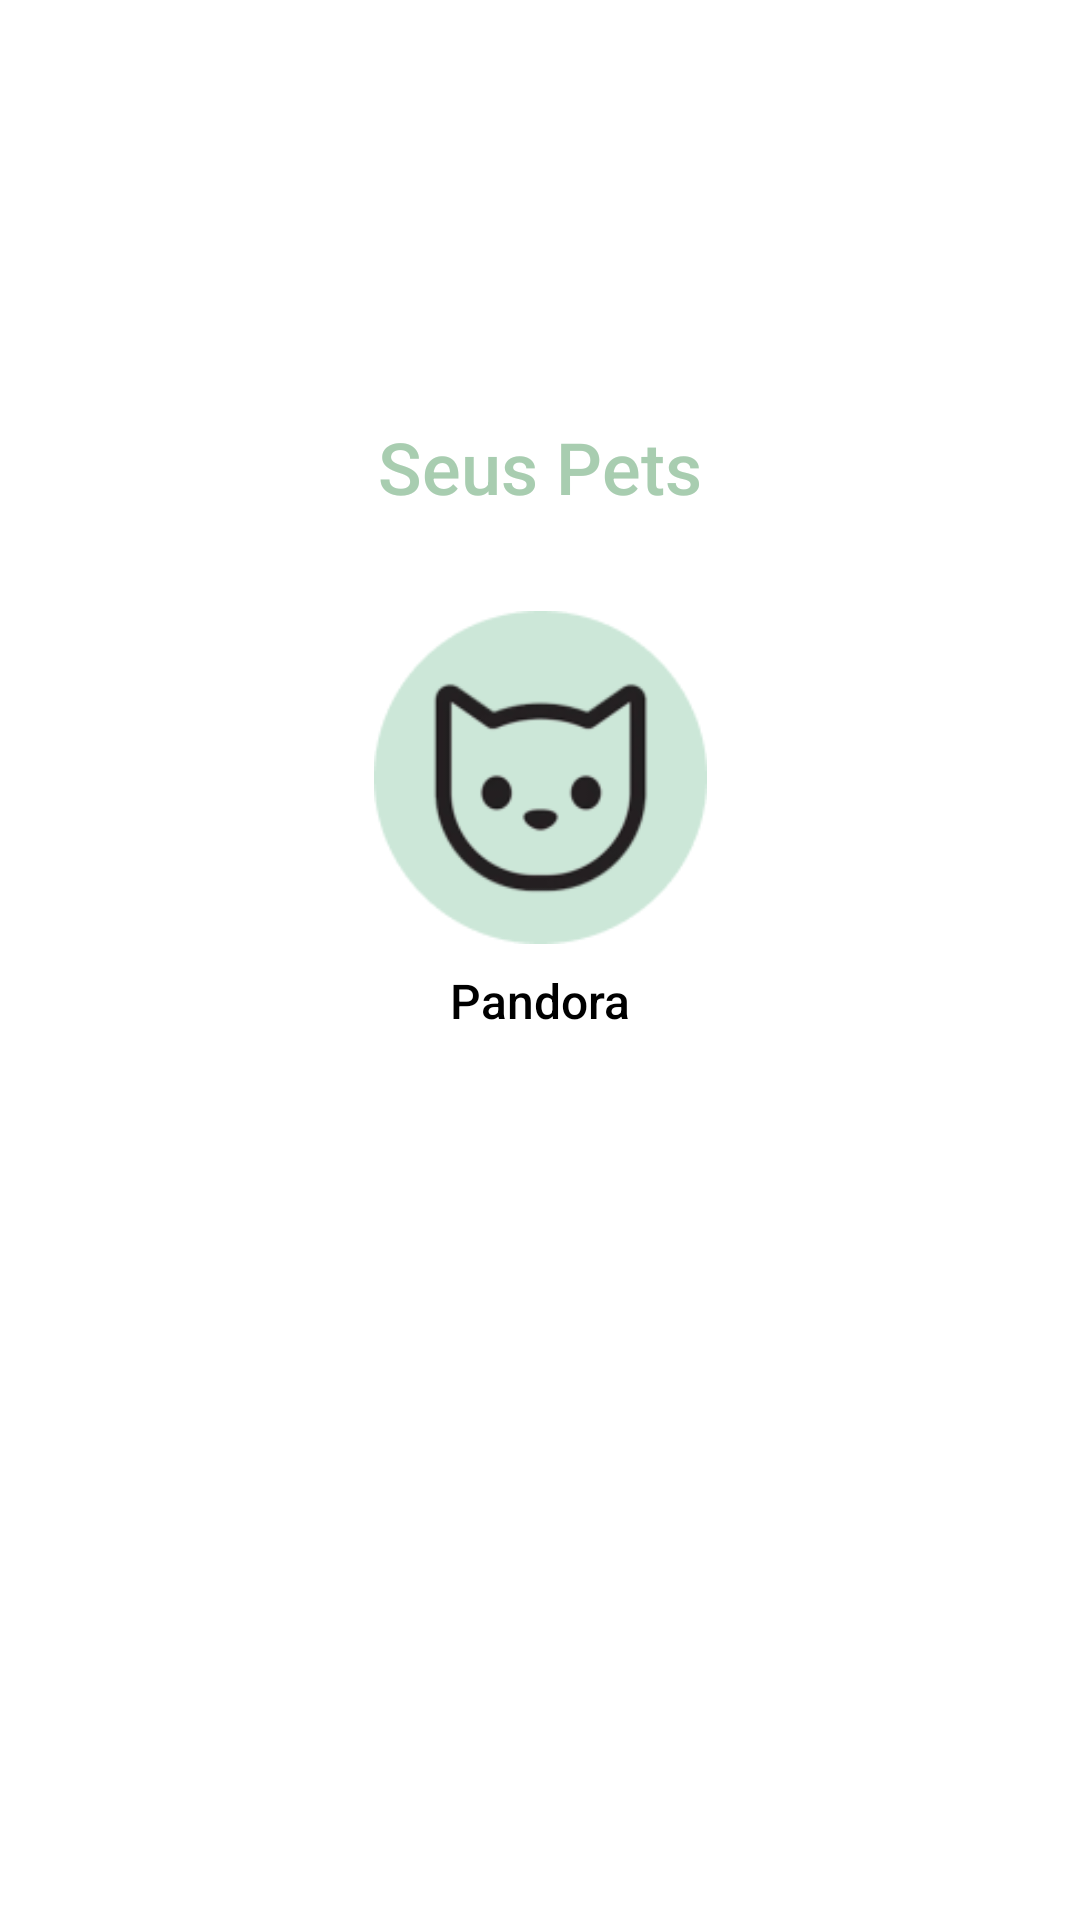

Point at icon controls on the screen. Image size 1080x1920, points as point (x, y).
cat: point (540, 777)
